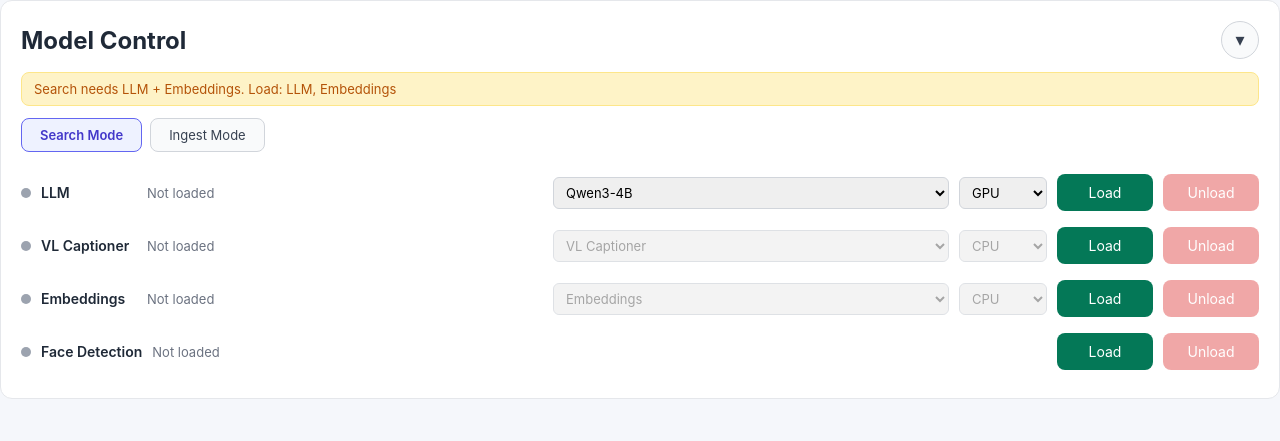
Scenario: LLMPanel load action › shows error message when load fails
Click the 1st button "Load" at point(1105, 192), box [1057,174,1153,211]
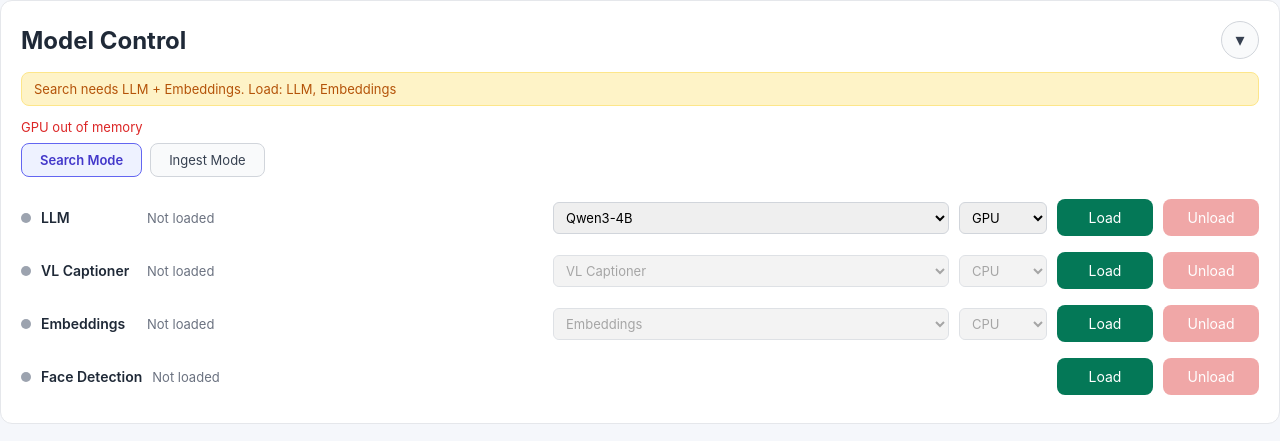
Now the text "GPU out of memory" is shown, box [21,119,142,135]
